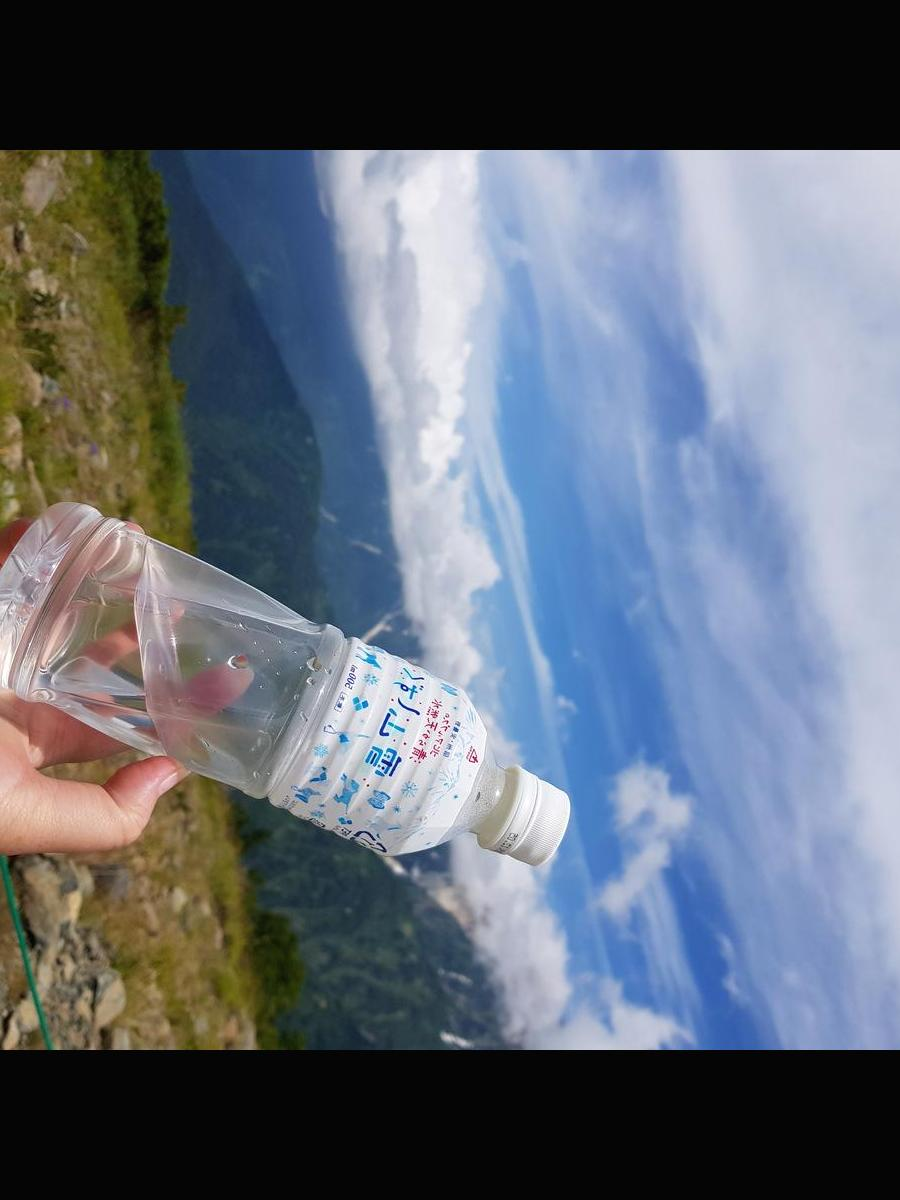bottle: (0, 480, 589, 889)
